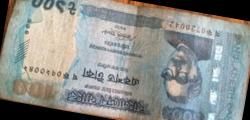100 taka: (15, 2, 243, 115)
